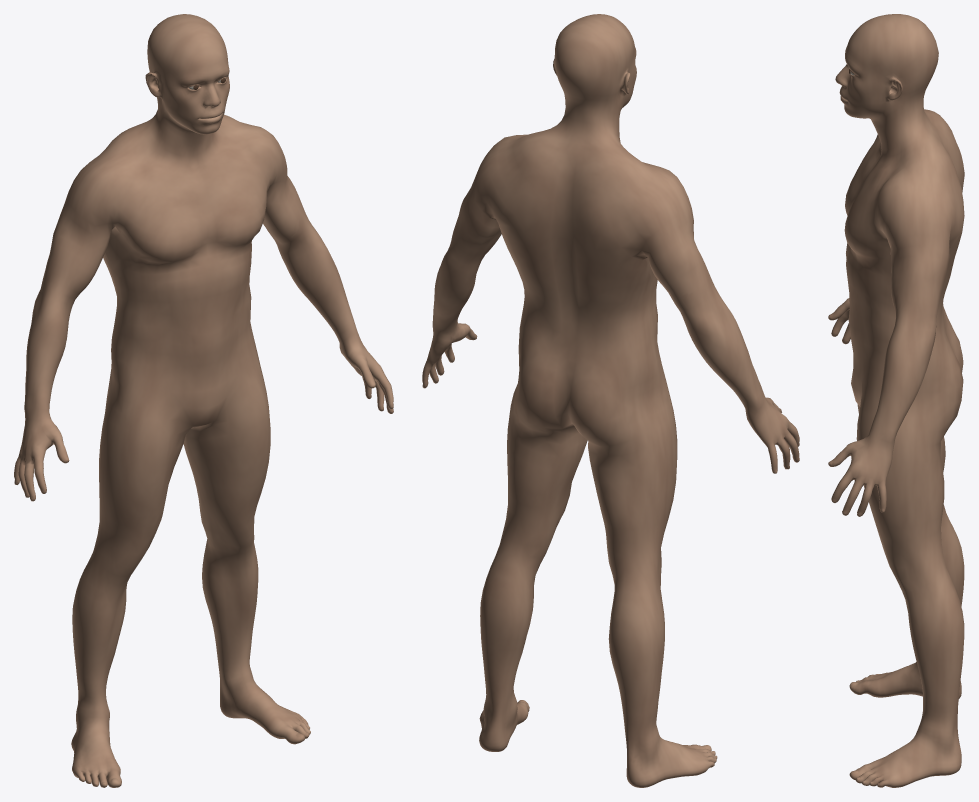
Rendered from A001_anatomy_proxy.glb.
3 renders of one model, left to right at view 1: azimuth 30°, elevation 25°; view 2: azimuth 150°, elevation 25°; view 3: azimuth 270°, elevation 25°, orthographic.
Visible parts, largest first — view 1: A001 gameplay topology proxy; view 2: A001 gameplay topology proxy; view 3: A001 gameplay topology proxy.
Boxes of the visible parts, bbox=[...] form: A001 gameplay topology proxy: bbox=[14, 14, 393, 787]; A001 gameplay topology proxy: bbox=[422, 14, 799, 787]; A001 gameplay topology proxy: bbox=[828, 14, 964, 787].
Size of the model in its own units: 0.9223 by 1.77 by 0.3042.
Materials: 4 (1 with a texture image).
